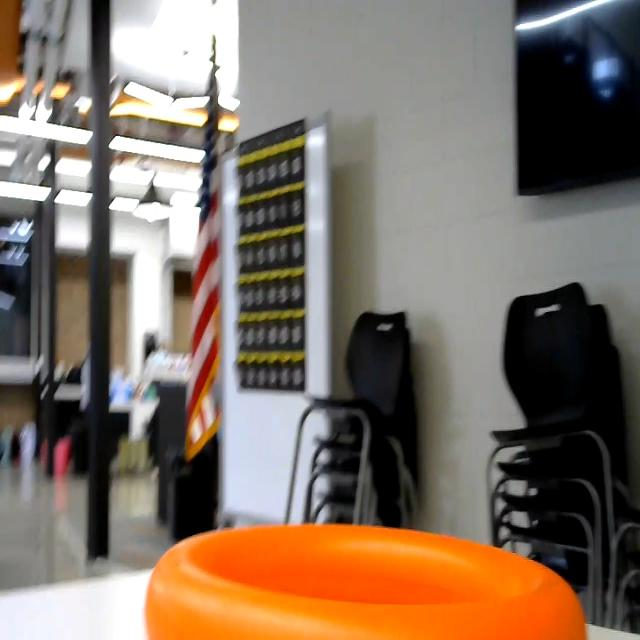note: (143, 513, 589, 640)
